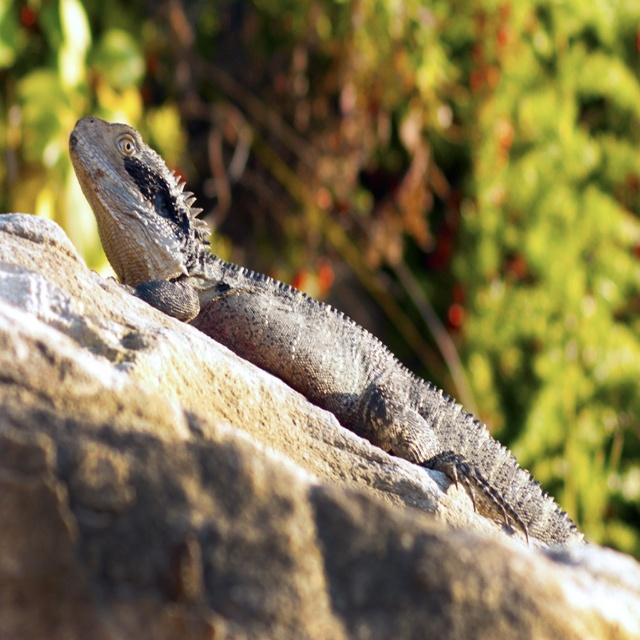Lizard: (72, 126, 587, 539)
